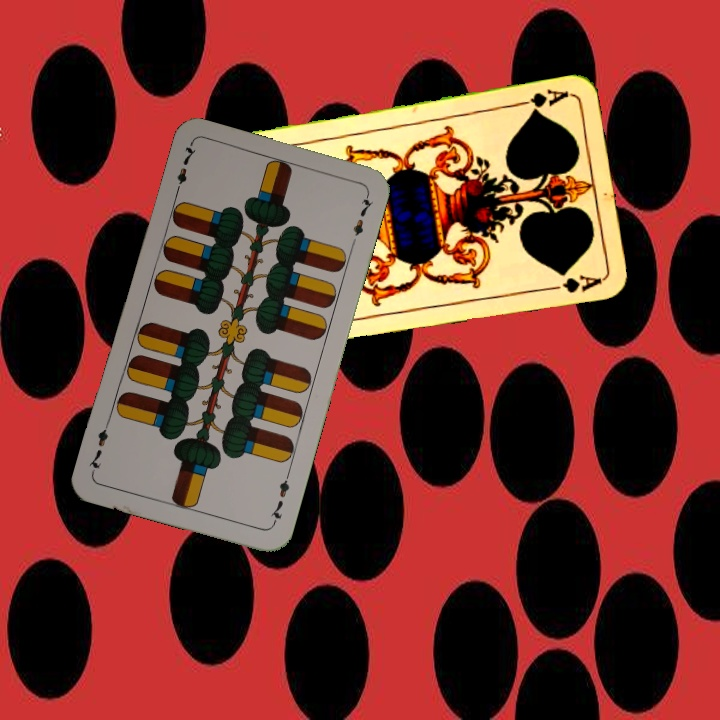E7: (171, 141, 199, 199), (267, 470, 292, 528)
GA: (513, 85, 571, 116)
